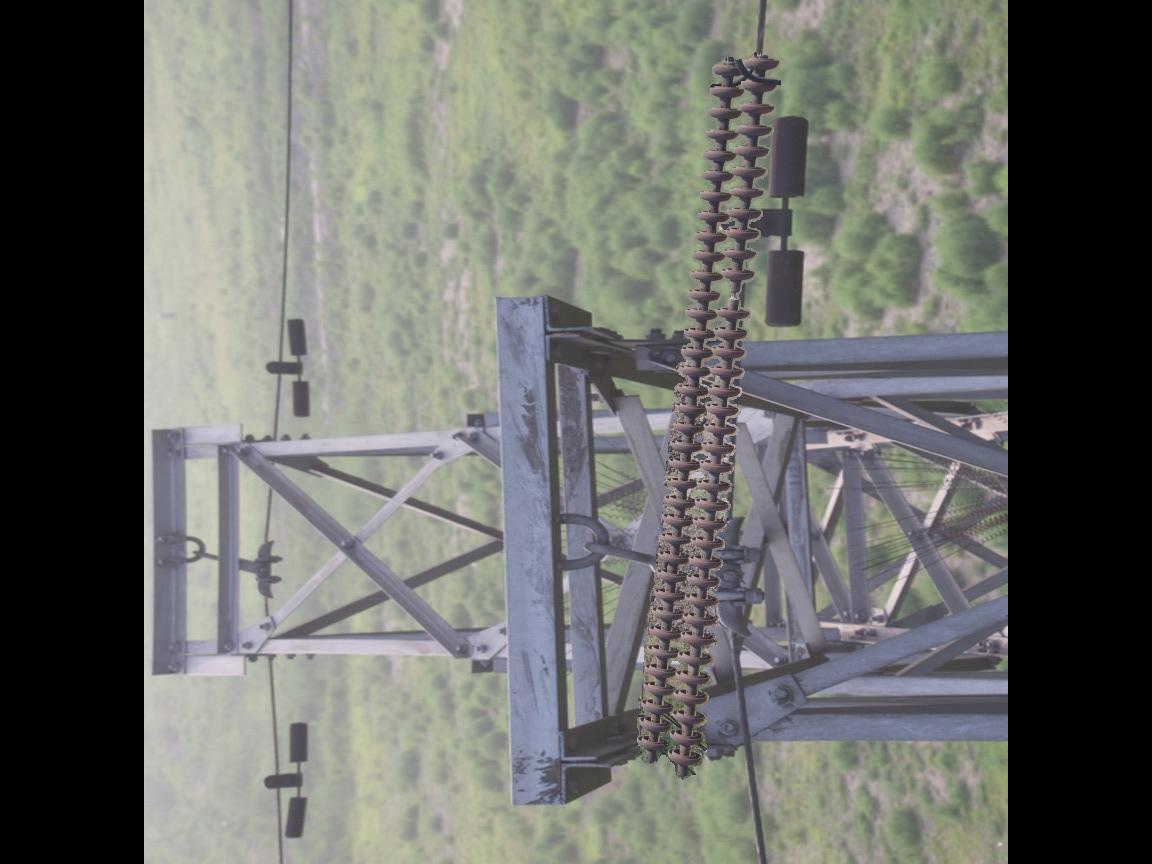insulator: (636, 44, 788, 780)
insulator_stringdrop: (713, 265, 757, 323)
